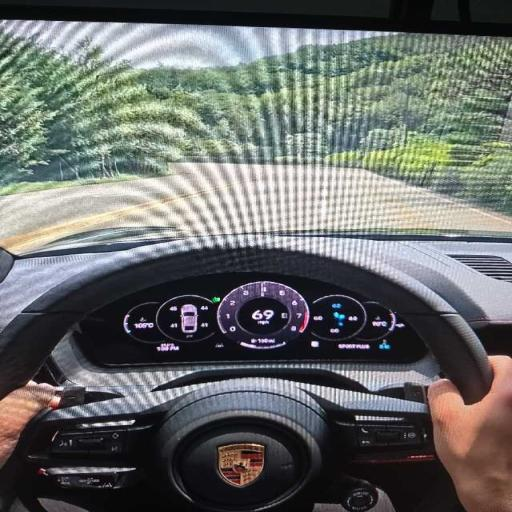car: (0, 8, 511, 511)
lane: (0, 164, 511, 252)
person: (428, 356, 511, 511), (0, 382, 59, 467)
